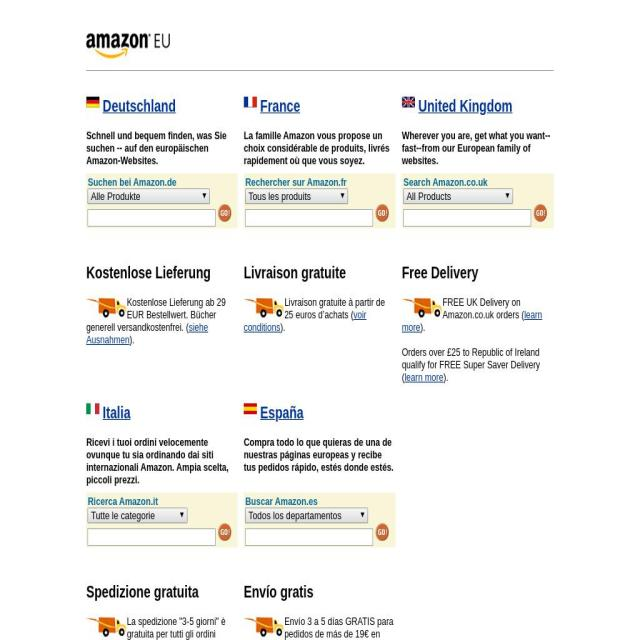button: (256, 96, 257, 98), (414, 96, 415, 98), (126, 615, 127, 616), (99, 96, 99, 98), (126, 296, 127, 296), (284, 296, 284, 296), (442, 296, 442, 296), (99, 404, 99, 404), (256, 404, 257, 404), (284, 615, 284, 616)
field: (245, 208, 374, 227), (403, 208, 532, 227), (245, 527, 374, 546), (88, 208, 216, 227), (88, 527, 216, 546), (245, 507, 369, 523), (88, 188, 210, 204), (403, 188, 514, 204), (245, 188, 349, 204), (88, 507, 188, 523), (218, 203, 232, 222), (376, 203, 390, 222), (534, 203, 548, 222), (218, 522, 232, 541), (376, 522, 390, 541)
heading: (243, 264, 396, 284), (243, 582, 396, 602), (86, 264, 238, 284), (402, 264, 554, 284), (86, 582, 238, 602), (418, 96, 513, 115), (102, 96, 176, 115), (260, 403, 304, 422), (260, 96, 301, 115), (102, 403, 132, 422), (86, 403, 100, 415), (243, 403, 257, 415), (86, 97, 100, 108), (243, 97, 257, 108), (401, 97, 415, 108)
image: (86, 33, 170, 59), (243, 296, 284, 319), (243, 615, 284, 638), (86, 296, 126, 319), (402, 296, 442, 319), (86, 615, 126, 638)
link: (401, 308, 542, 334), (243, 308, 367, 334), (86, 321, 208, 347), (404, 371, 444, 384)
text: (85, 436, 228, 486), (401, 129, 551, 168), (243, 436, 394, 474), (243, 129, 389, 168), (86, 129, 226, 168), (86, 296, 226, 334), (401, 346, 540, 384), (243, 615, 394, 640), (86, 615, 233, 640), (284, 296, 385, 322), (442, 296, 524, 322), (245, 175, 347, 188), (87, 175, 177, 188), (403, 175, 488, 188), (245, 494, 318, 508), (88, 494, 158, 508), (129, 333, 135, 347), (280, 321, 286, 334), (443, 371, 449, 384), (420, 321, 425, 334)
